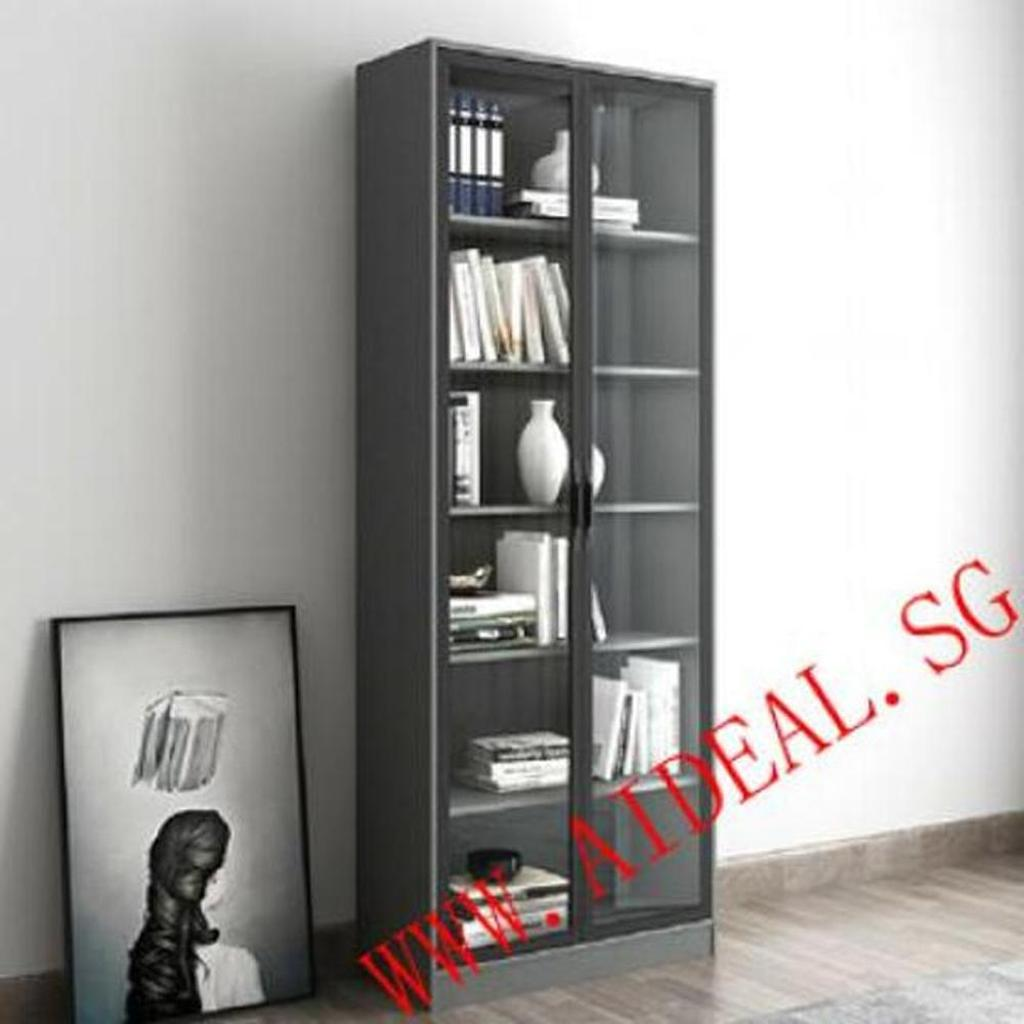lamp: (354, 35, 722, 1023)
